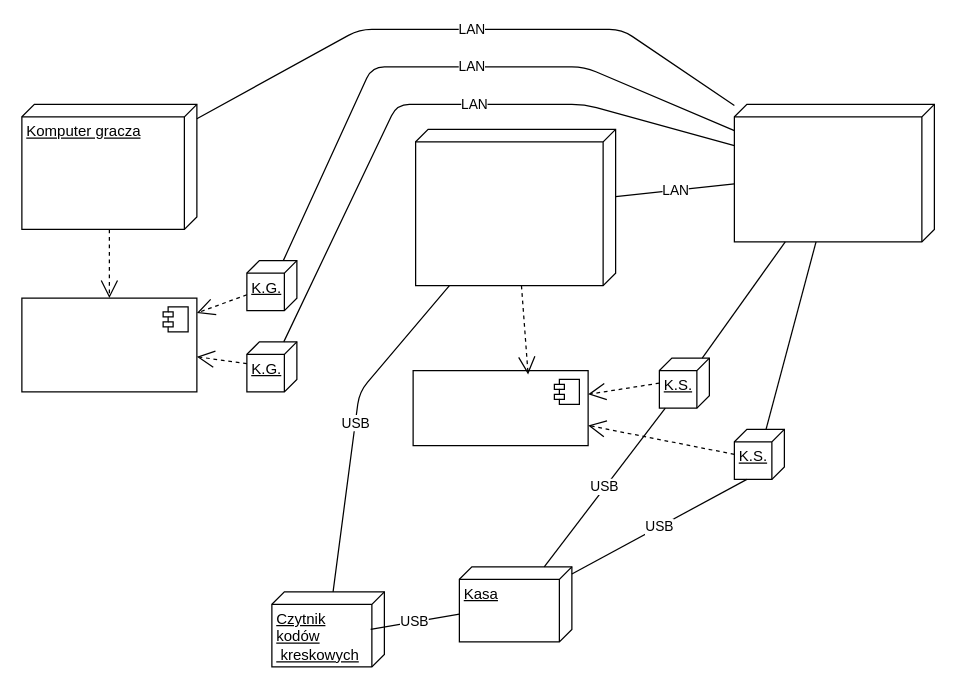
The diagram is 956 pixels wide and 689 high, and some of its shapes have lost their labels. The centre of each missing label's shape, as x and y in pixels:
Baza Danych: (833,172)
Komputer sprzedawcy: (515,207)
Obsługa wypożyczeń: (500,407)
Obsługa wyszukiwań: (109,344)
